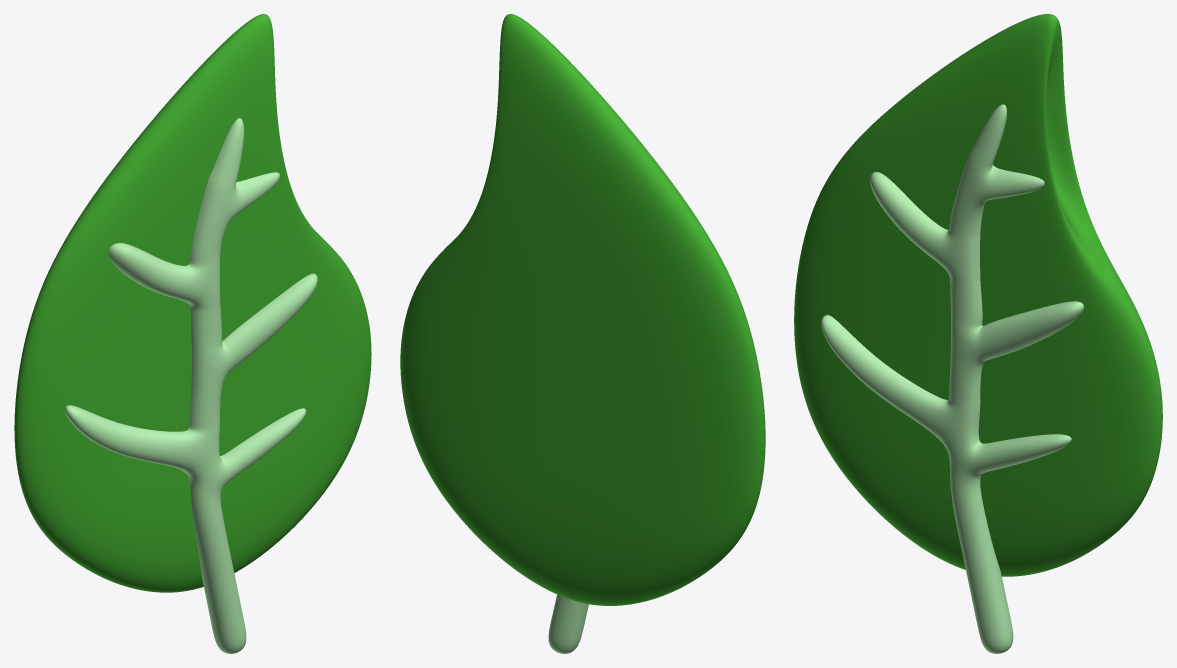
Rendered from Hoja.fbx.
The picture shows the model from 3 angles, left to right: view 1: azimuth 30°, elevation 25°; view 2: azimuth 150°, elevation 25°; view 3: azimuth 330°, elevation 25°; orthographic projection. The views are drawn at different scales.
Parts seen in each view (by area): view 1: Plane.013, Plane.014; view 2: Plane.013, Plane.014; view 3: Plane.013, Plane.014.
Part boxes in pixels (box(x1,y1,x2,y2)): Plane.013: box(14, 14, 371, 592); Plane.014: box(65, 118, 317, 653); Plane.013: box(400, 14, 765, 605); Plane.014: box(548, 594, 588, 653); Plane.013: box(794, 14, 1162, 576); Plane.014: box(821, 104, 1083, 653).
Size of the model in its own units: 174 by 291 by 26.89.
